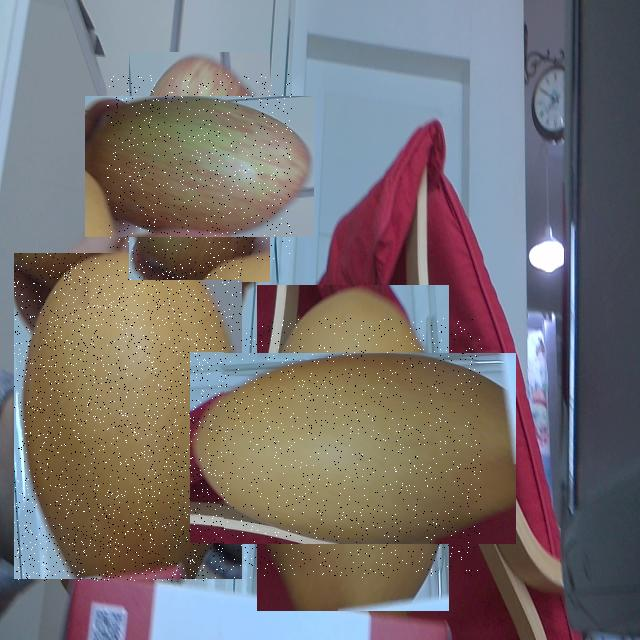apple: (107, 74, 292, 260)
pear: (14, 254, 242, 582), (224, 318, 482, 578)
